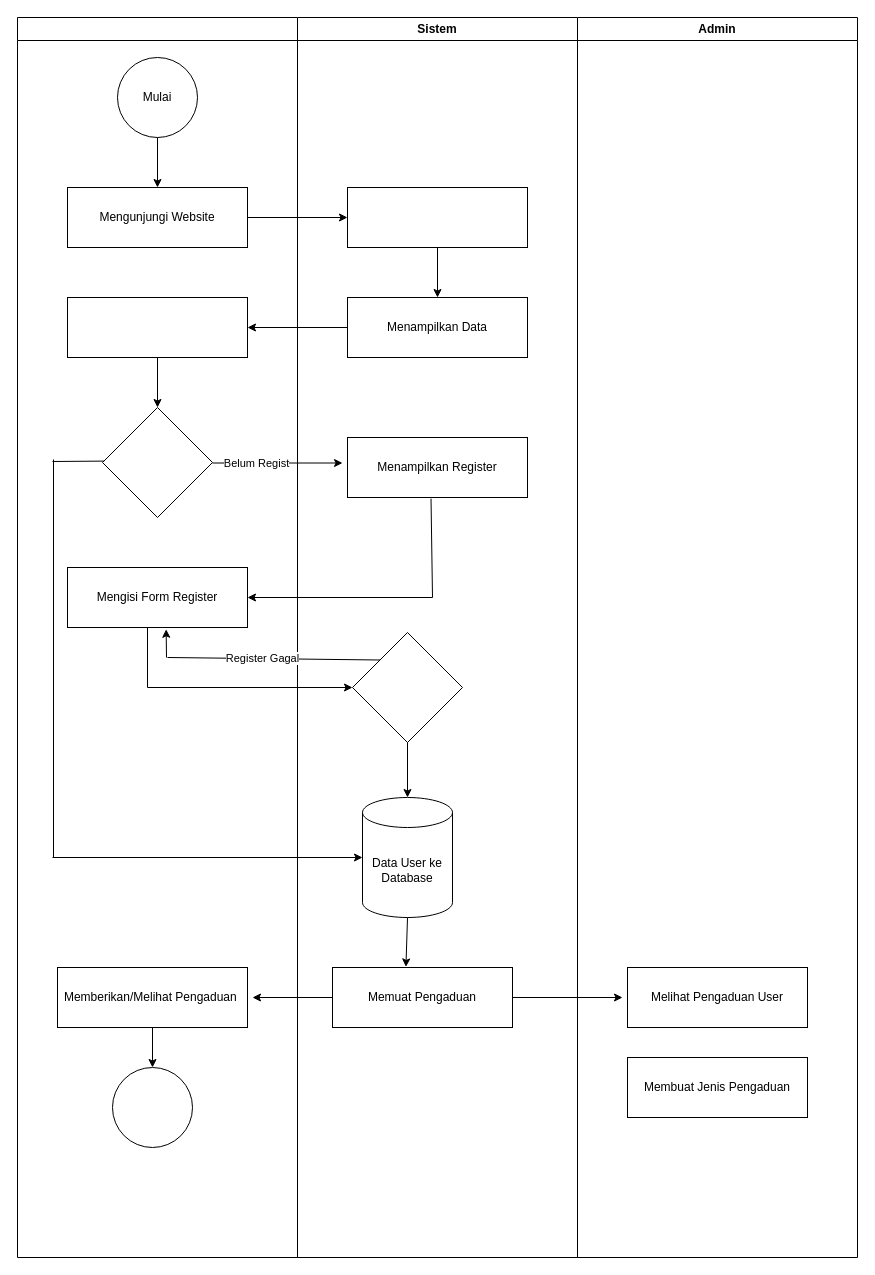
The diagram is 875 pixels wide and 1275 high, and some of its shapes have lost their labels. Here are the shapes that lost their labels. From the top down, the box of each, then its label:
(346, 186, 528, 248): Memuat Data
(66, 296, 248, 358): Menampilkan Website
(102, 406, 212, 518): Login
(16, 16, 298, 1258): Pelanggan
(352, 632, 462, 742): Register Berhasil
(112, 1066, 192, 1148): Logout
